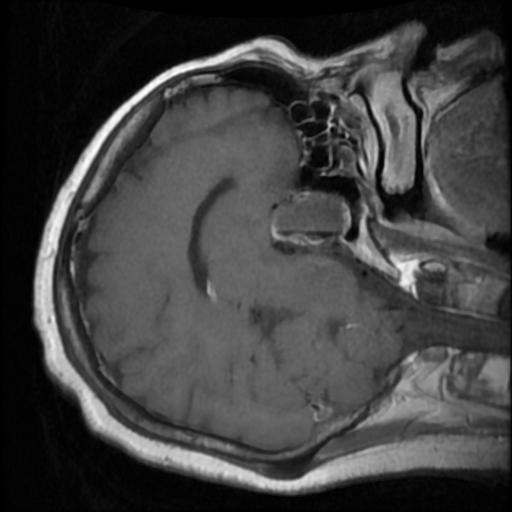pituitary tumour: (272, 194, 348, 245)
